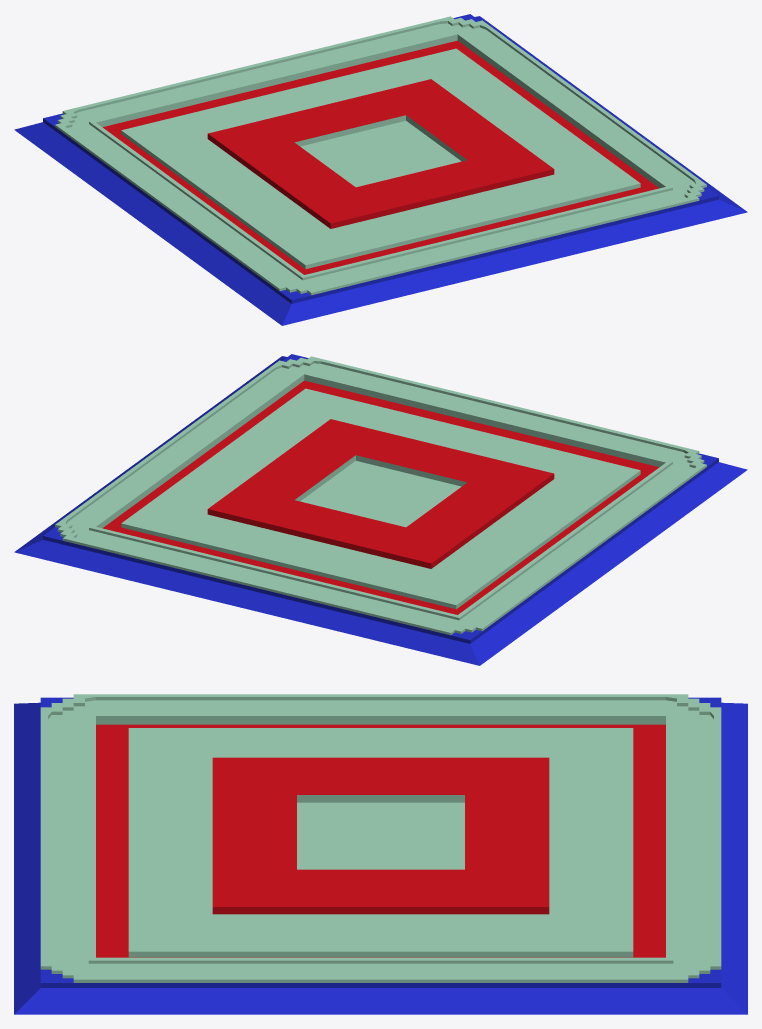
The picture shows the model from 3 angles, top to bottom: view 1: azimuth 30°, elevation 25°; view 2: azimuth 150°, elevation 25°; view 3: azimuth 270°, elevation 25°; orthographic projection. The views are drawn at different scales.
Parts seen in each view (by area): view 1: Плоскость; view 2: Плоскость; view 3: Плоскость.
Boxes of the visible parts, x1,y1,x2,y2 form: Плоскость: [14, 14, 747, 325]; Плоскость: [14, 354, 747, 665]; Плоскость: [14, 694, 747, 1014].
Size of the model in its own units: 123 by 4.98 by 123.
